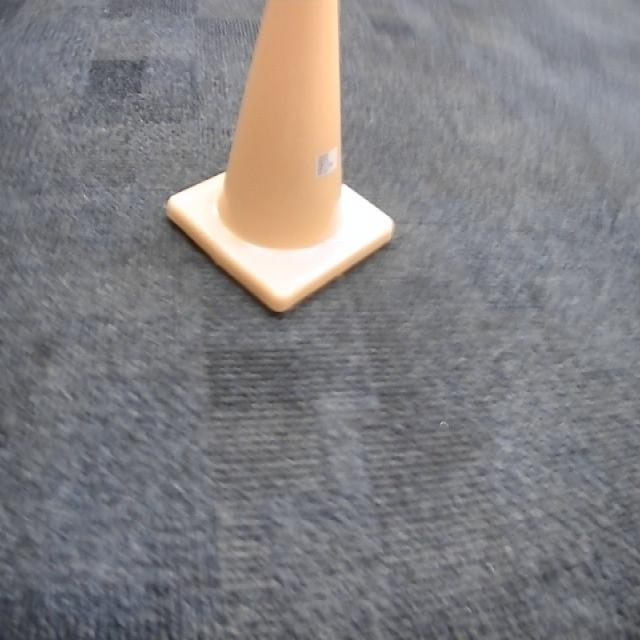cone: (157, 0, 403, 333)
